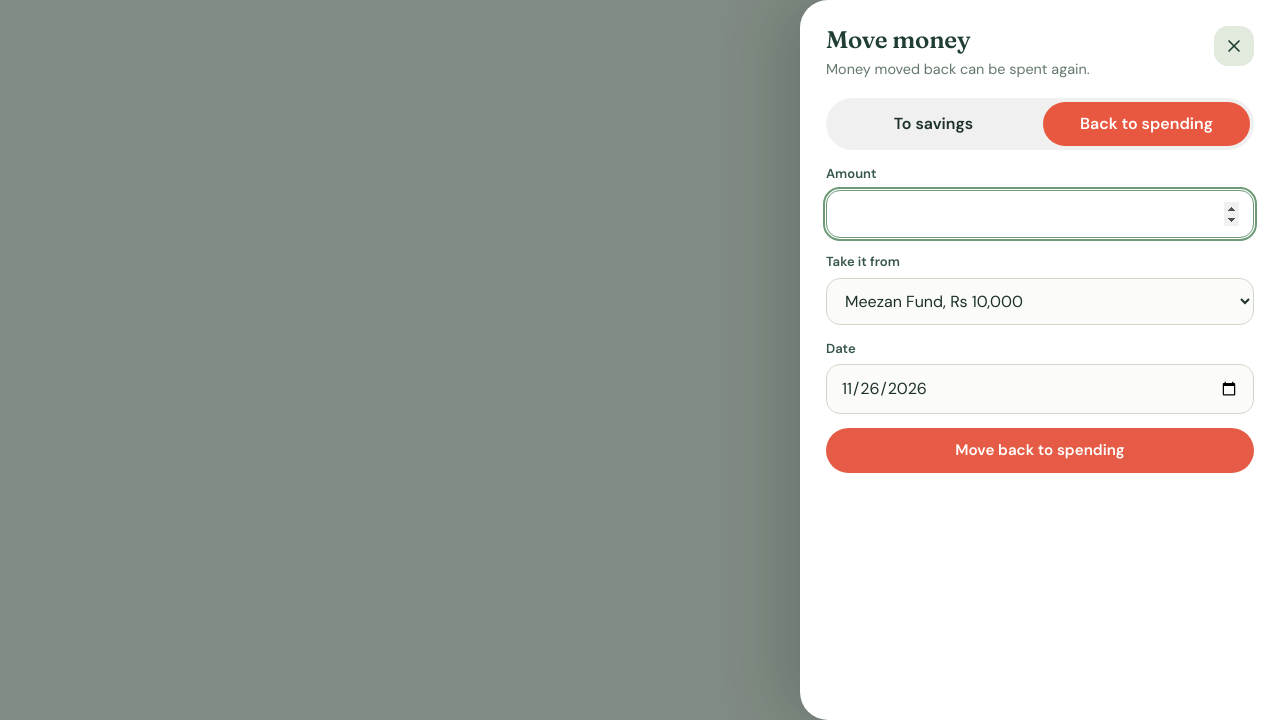
Test: MoveMoney › refuses to take more than an item holds
In the number field: (1040, 214) top-left (826, 190), bottom-right (1254, 238), type "10001"
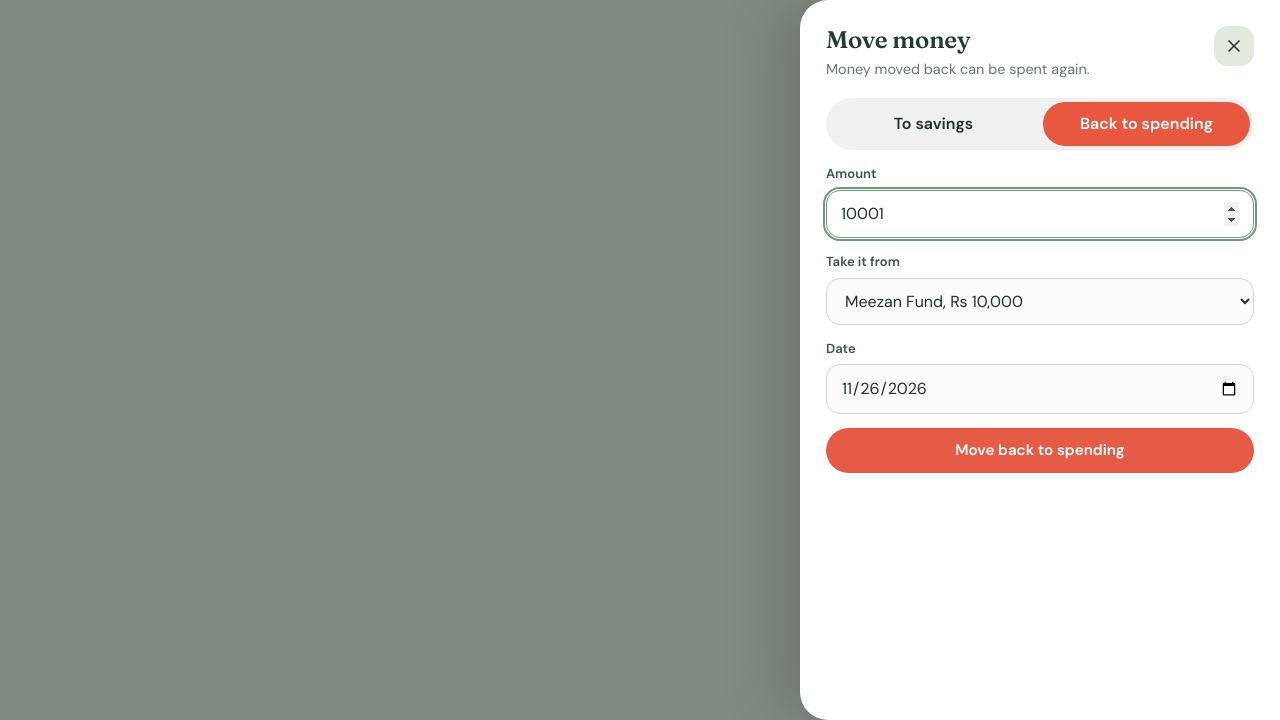
Click the button "Move back to spending": (1040, 451) top-left (826, 428), bottom-right (1254, 473)
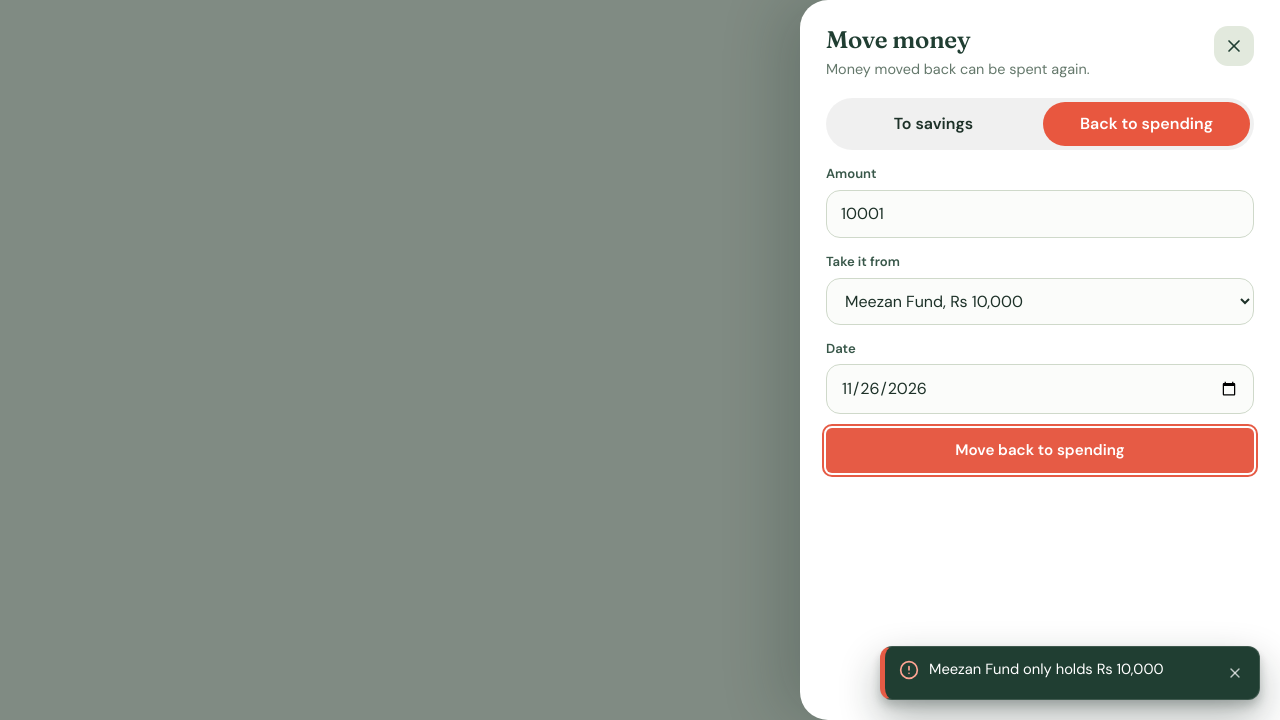
Check: the message shows "Meezan Fund only holds", box top-left (929, 659), bottom-right (1164, 679)
